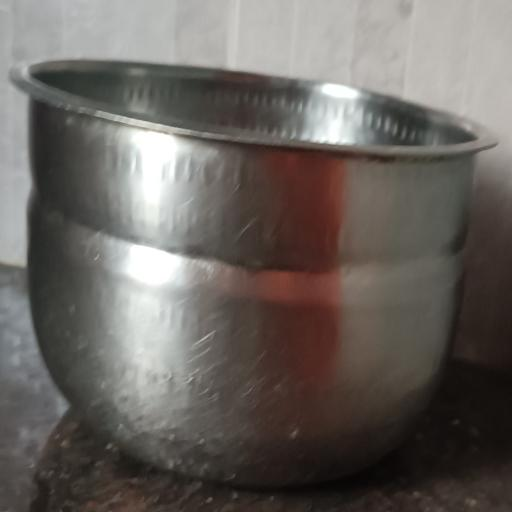vessel: (12, 61, 495, 486)
